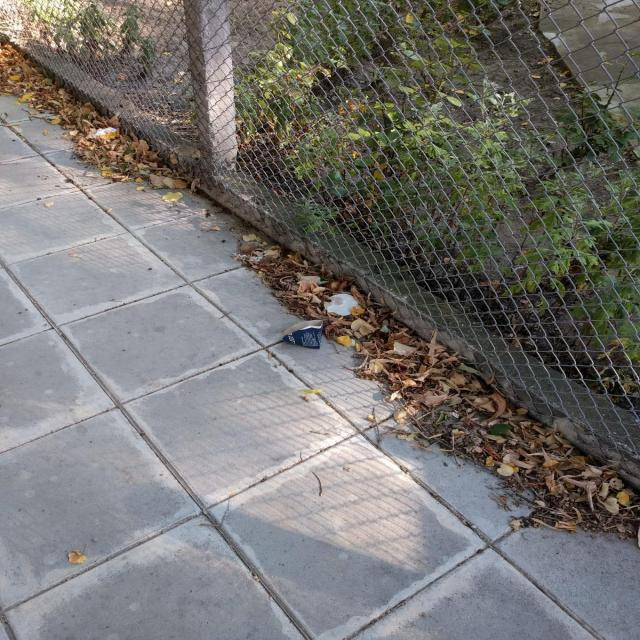litter: (282, 319, 327, 347), (323, 294, 361, 316)
